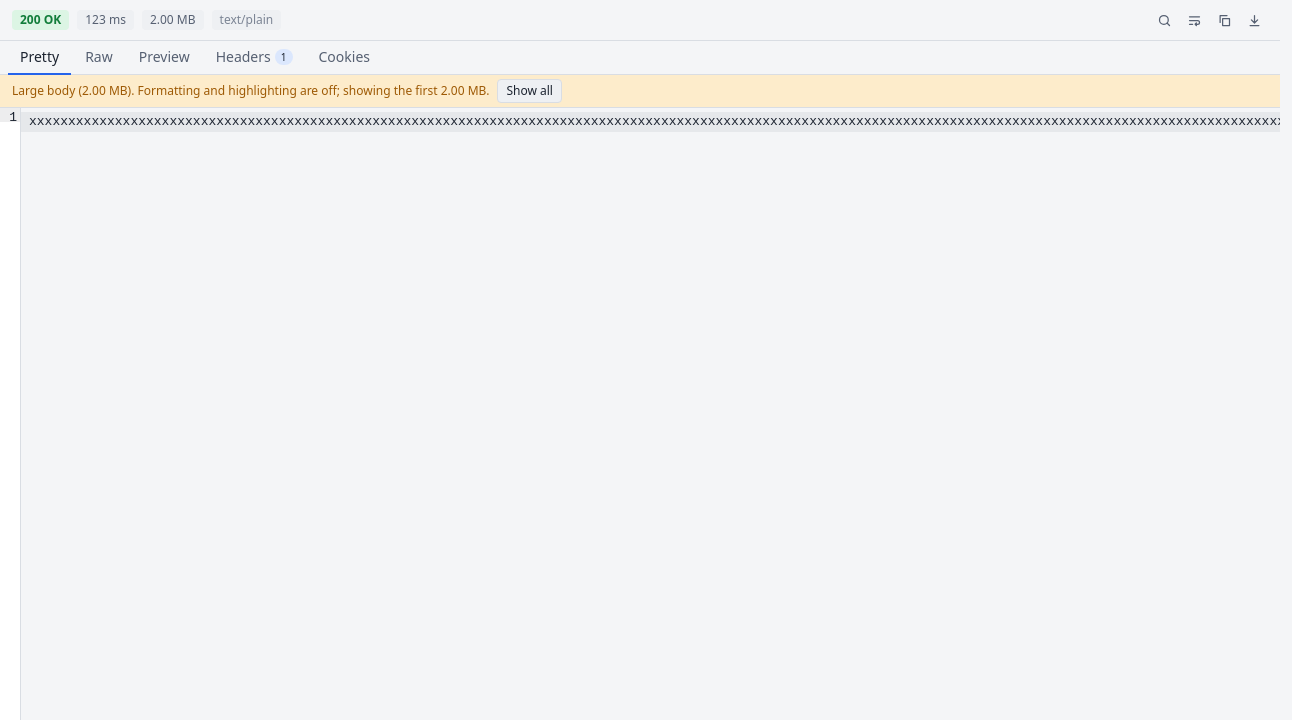
it: ResponseViewer › truncates rendering above 2 MB and offers Show all
Expected: the text "Large body" is shown, [12,82,489,99]
Click the button "Show all". click: (530,91)
box: [497,79,562,103]
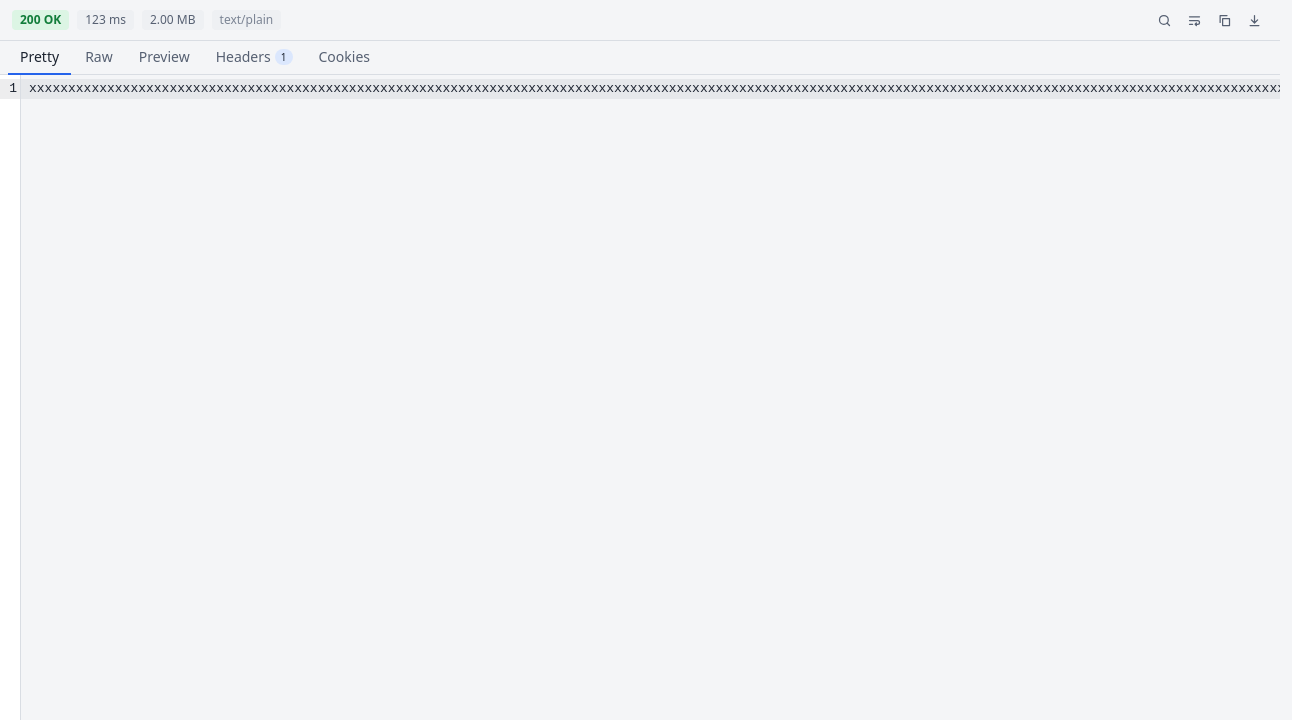
Now the text "Large body" is gone
